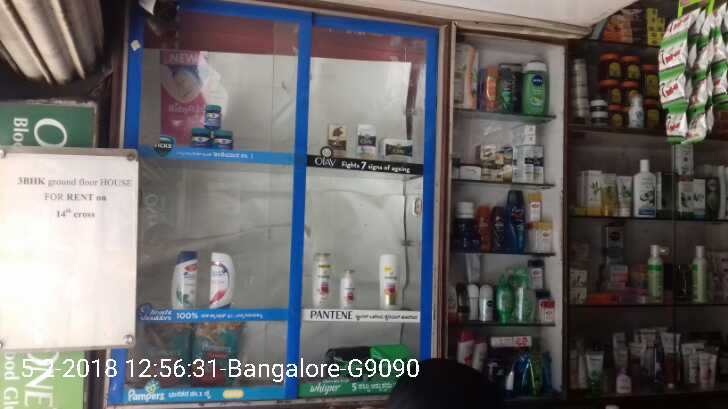beauty: (171, 249, 199, 306), (377, 253, 402, 310), (212, 252, 237, 305), (311, 246, 331, 310), (355, 120, 381, 168), (383, 134, 417, 166), (325, 120, 350, 159), (338, 265, 356, 310)
pharmacy: (198, 103, 224, 129), (190, 132, 211, 153), (212, 133, 233, 153)
